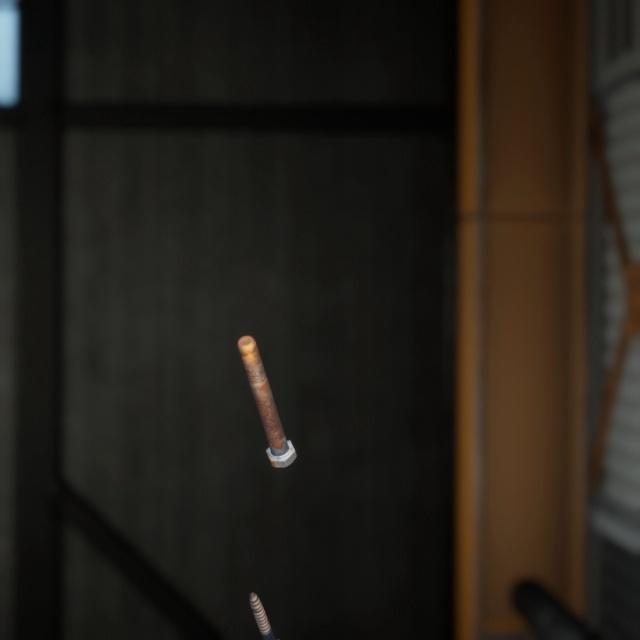bolt: (233, 310, 301, 452), (244, 563, 290, 640)
